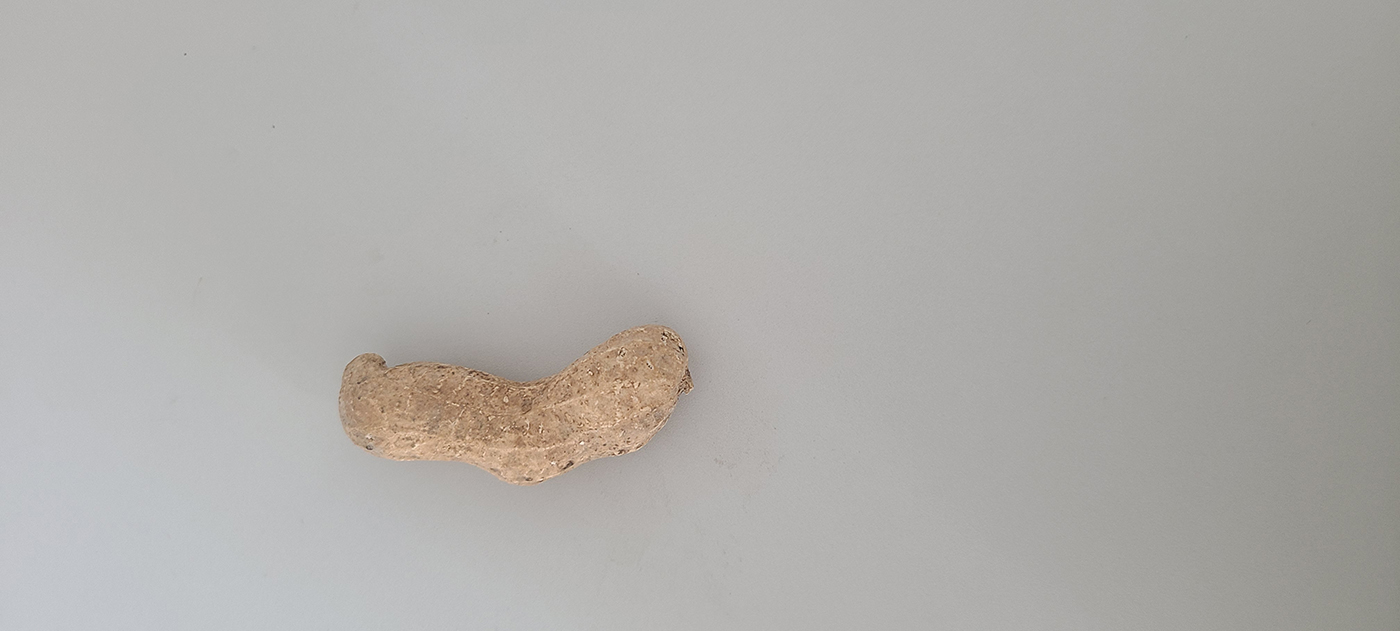h: (335, 323, 694, 487)
